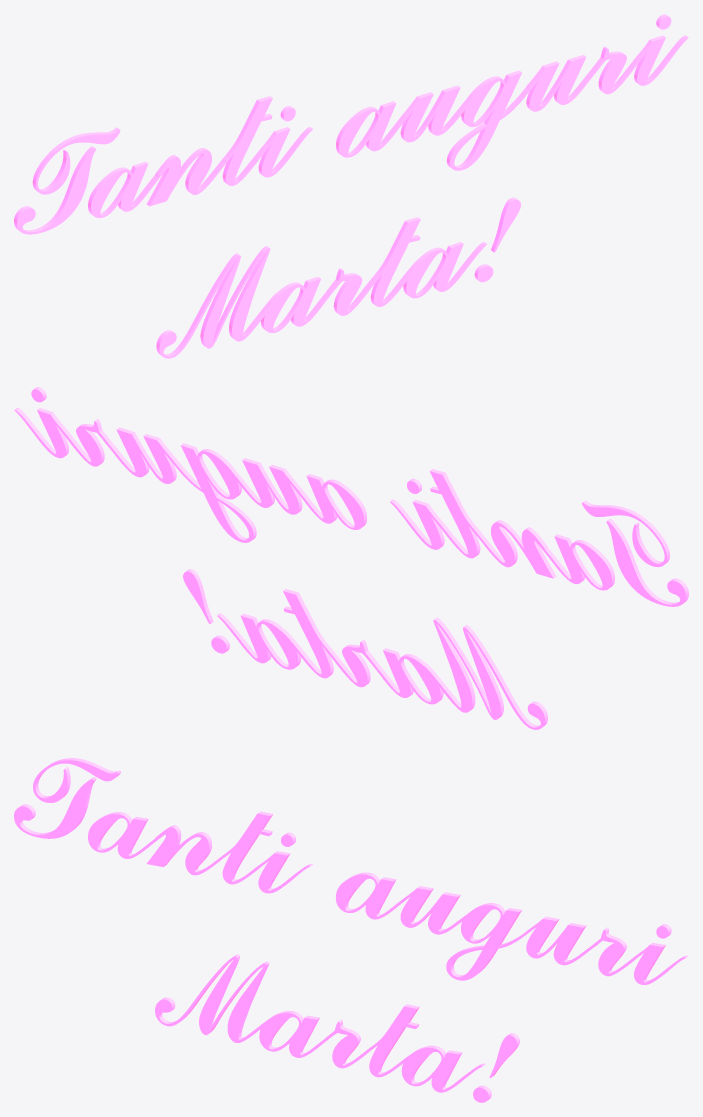
The picture shows the model from 3 angles, top to bottom: view 1: azimuth 30°, elevation 25°; view 2: azimuth 150°, elevation 25°; view 3: azimuth 330°, elevation 25°; orthographic projection.
Visible parts, largest first — view 1: TextPlus001; view 2: TextPlus001; view 3: TextPlus001.
Part boxes in pixels (<box>): TextPlus001: <box>14,14,688,358</box>; TextPlus001: <box>14,387,688,729</box>; TextPlus001: <box>14,758,688,1102</box>.
Bounding box in the file's own units: 112 × 38.76 × 1.18.
